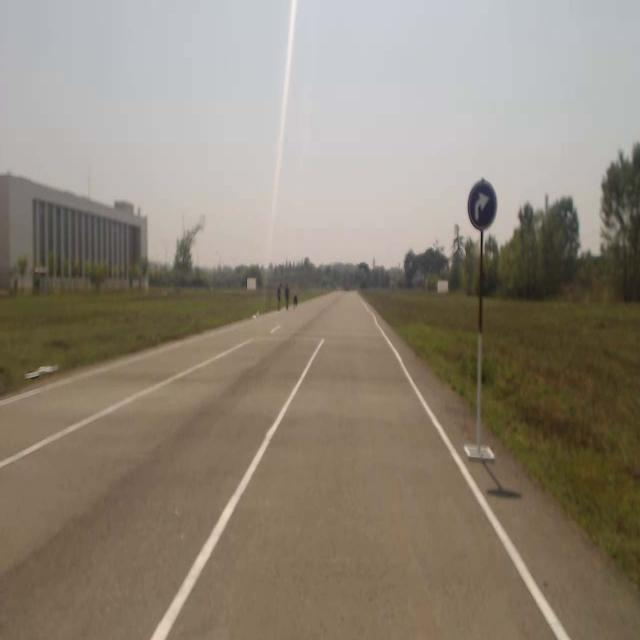sag: (468, 182, 497, 228)
